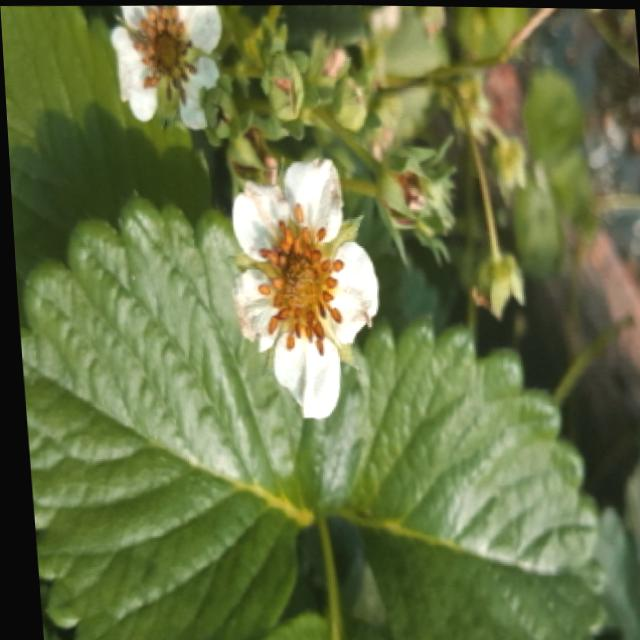Blossom Blight: (249, 194, 353, 359)
